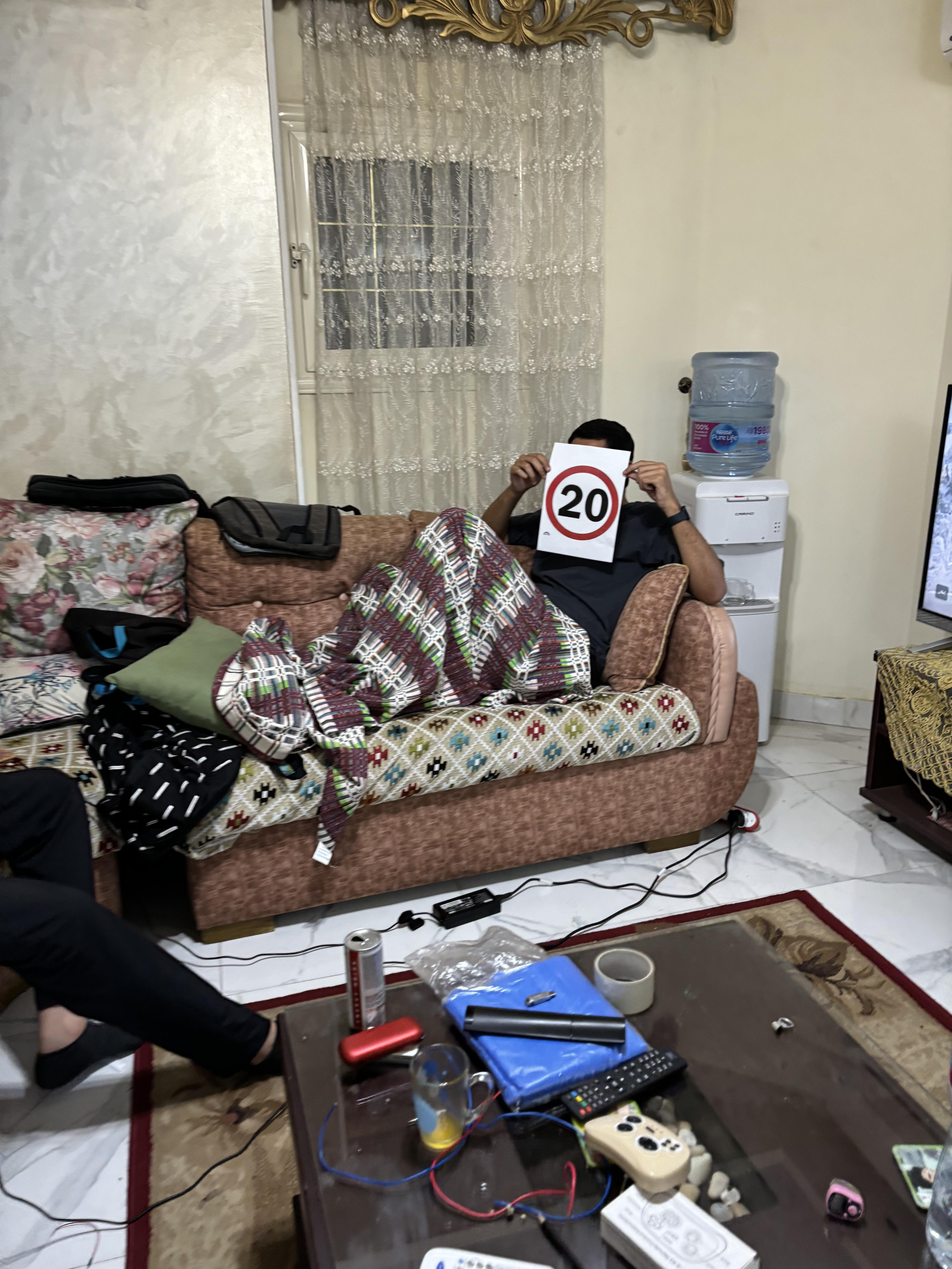20-Speed: (556, 465, 621, 547)
